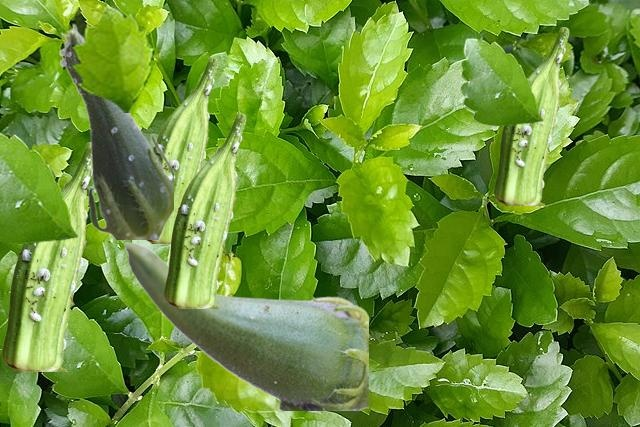okra: (123, 241, 367, 409), (58, 23, 172, 238), (2, 142, 90, 370), (164, 113, 245, 307), (144, 57, 217, 242), (494, 27, 568, 204)
